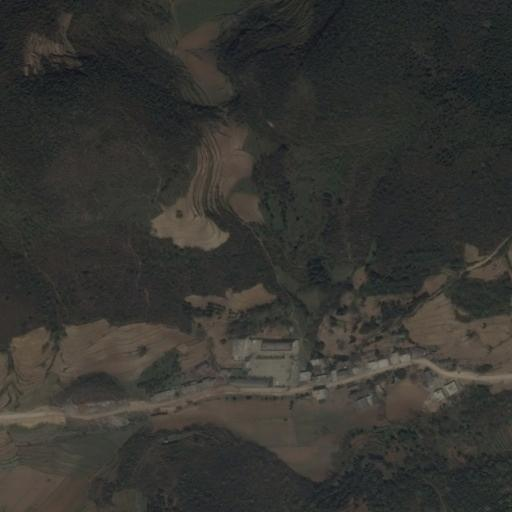landslide: (150, 198, 232, 252)
